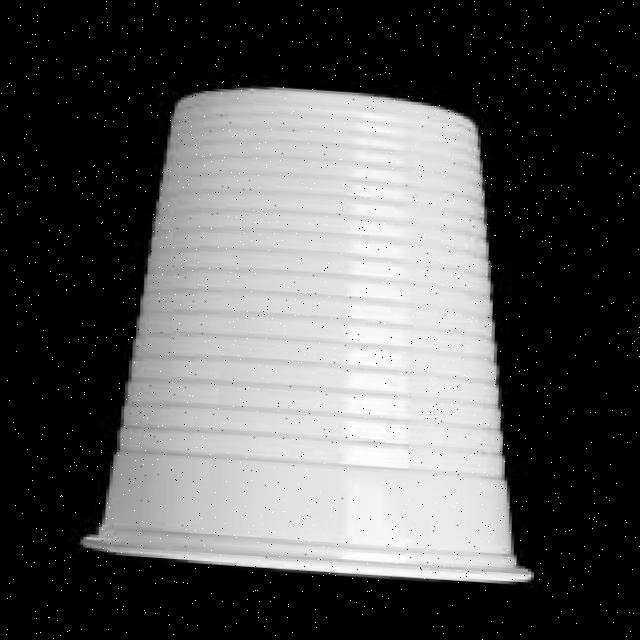cup: (68, 42, 568, 628)
